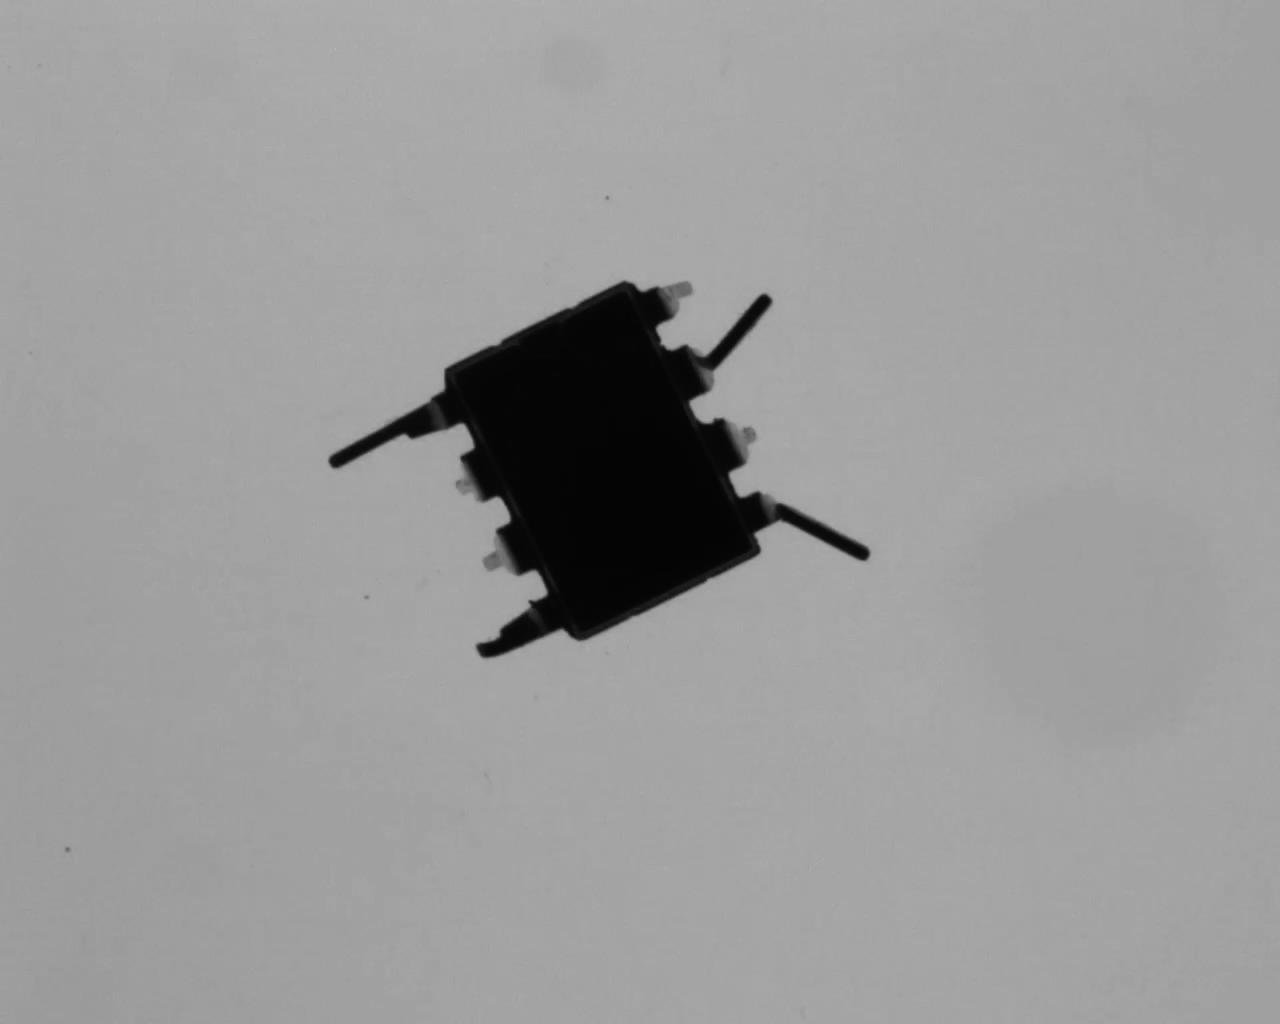Leg: (667, 288, 778, 408), (321, 386, 450, 473), (735, 484, 871, 565), (473, 596, 568, 665), (476, 516, 541, 577), (449, 447, 509, 501), (705, 416, 759, 474), (644, 276, 702, 324)
